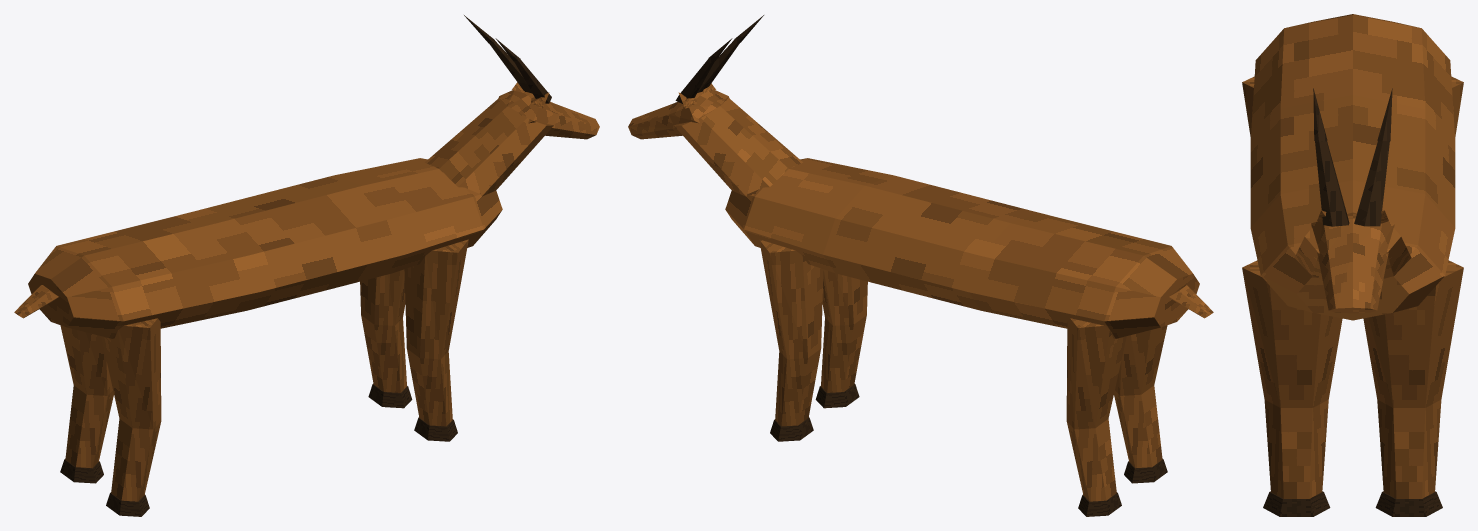
The model's file is antilope.glb.
3 renders of one model, left to right at view 1: azimuth 30°, elevation 25°; view 2: azimuth 150°, elevation 25°; view 3: azimuth 270°, elevation 25°, orthographic. The views are drawn at different scales.
Visible parts, largest first — view 1: cuerpo, pata_delantera_der, pata_trasera_der, cuello, pata_trasera_izq, pata_delantera_izq, cabeza, cuernos, pezuna_delantera_der, pezuna_trasera_izq, cola, pezuna_delantera_izq (+1 smaller); view 2: cuerpo, pata_delantera_izq, pata_trasera_izq, cuello, pata_trasera_der, pata_delantera_der, cabeza, cuernos, pezuna_delantera_izq, pezuna_trasera_der, cola, pezuna_delantera_der (+1 smaller); view 3: cuerpo, pata_delantera_izq, pata_delantera_der, cabeza, cuernos, cuello, pezuna_delantera_izq, pezuna_delantera_der, pata_trasera_izq, pata_trasera_der.
Part boxes in pixels (x1,y1,x2,y2): cuerpo: [28, 158, 502, 338]; pata_delantera_der: [404, 239, 468, 426]; pata_trasera_der: [101, 318, 161, 501]; cuello: [425, 97, 553, 196]; pata_trasera_izq: [60, 325, 113, 468]; pata_delantera_izq: [360, 269, 406, 392]; cabeza: [498, 90, 599, 139]; cuernos: [464, 15, 551, 103]; pezuna_delantera_der: [414, 417, 457, 441]; pezuna_trasera_izq: [60, 458, 103, 483]; cola: [14, 285, 58, 318]; pezuna_delantera_izq: [368, 383, 412, 408]; cuerpo: [725, 158, 1199, 338]; pata_delantera_izq: [759, 239, 823, 426]; pata_trasera_izq: [1066, 318, 1126, 501]; cuello: [674, 97, 802, 196]; pata_trasera_der: [1114, 325, 1167, 468]; pata_delantera_der: [821, 269, 867, 392]; cabeza: [628, 90, 729, 139]; cuernos: [675, 15, 763, 103]; pezuna_delantera_izq: [770, 417, 813, 441]; pezuna_trasera_der: [1124, 458, 1167, 483]; cola: [1169, 285, 1213, 318]; pezuna_delantera_der: [815, 383, 859, 408]; cuerpo: [1250, 14, 1455, 320]; pata_delantera_izq: [1363, 260, 1463, 498]; pata_delantera_der: [1242, 260, 1342, 498]; cabeza: [1311, 212, 1394, 313]; cuernos: [1313, 88, 1392, 226]; cuello: [1294, 221, 1411, 278]; pezuna_delantera_izq: [1375, 491, 1442, 516]; pezuna_delantera_der: [1263, 491, 1330, 516]; pata_trasera_izq: [1451, 76, 1463, 138]; pata_trasera_der: [1242, 76, 1254, 138].
Size of the model in its own units: 1.3 by 0.8 by 0.35.
1 material, 1 textured.
